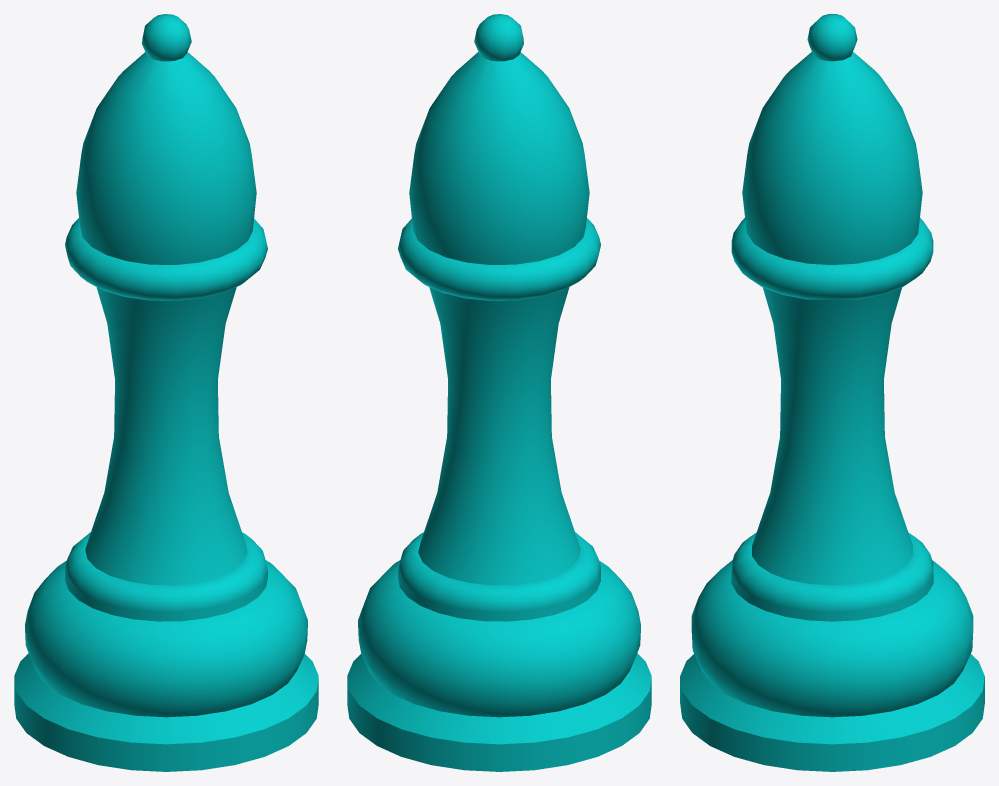
The model's file is bishop.glb.
3 renders of one model, left to right at view 1: azimuth 30°, elevation 25°; view 2: azimuth 150°, elevation 25°; view 3: azimuth 270°, elevation 25°, orthographic.
Size of the model in its own units: 0.0299 by 0.075 by 0.0299.
